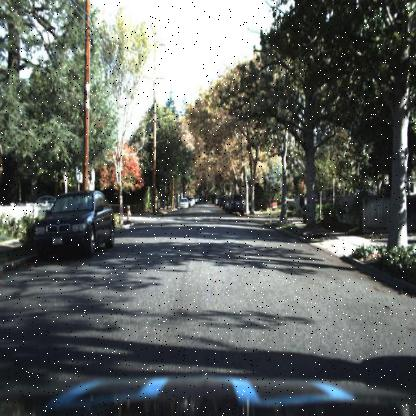car: (32, 191, 117, 249), (177, 196, 190, 209)
